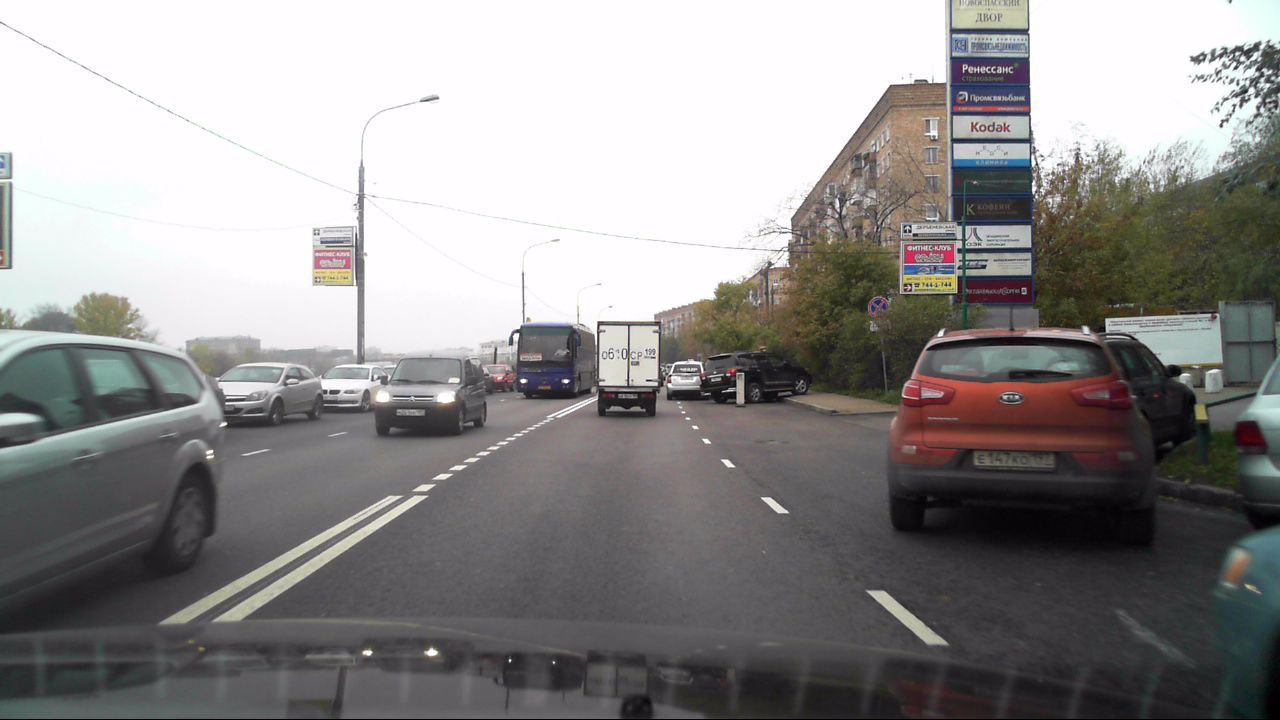No Parking: (865, 292, 891, 320)
